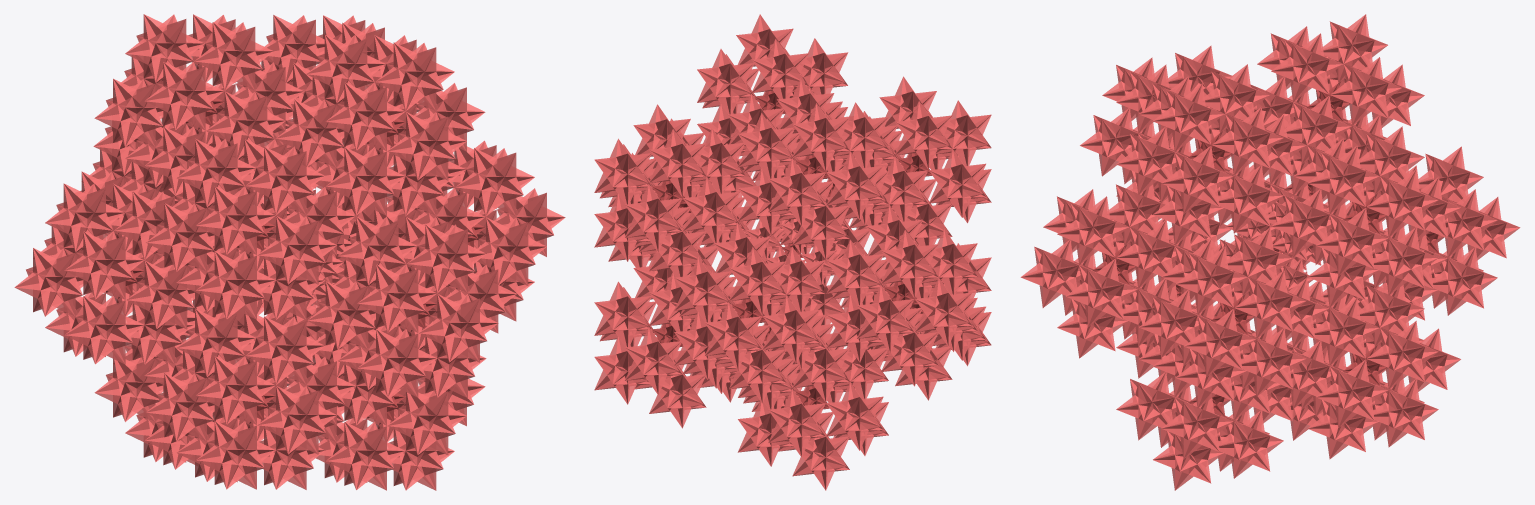
Rendered from fractalgreaticosahedron2.glb.
The picture shows the model from 3 angles, left to right: view 1: azimuth 30°, elevation 25°; view 2: azimuth 150°, elevation 25°; view 3: azimuth 270°, elevation 25°; orthographic projection. The views are drawn at different scales.
Size of the model in its own units: 12.01 by 10.49 by 12.01.
